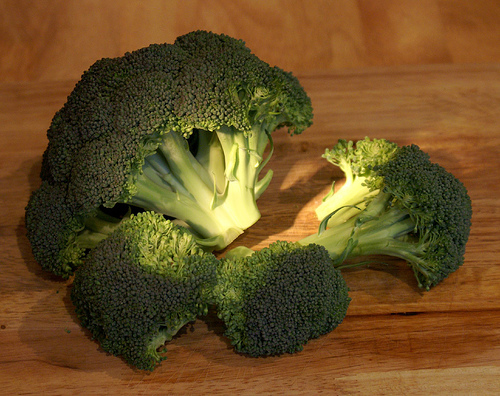broccoli: (24, 28, 313, 278), (294, 134, 475, 297), (67, 210, 219, 375), (217, 239, 351, 360)
